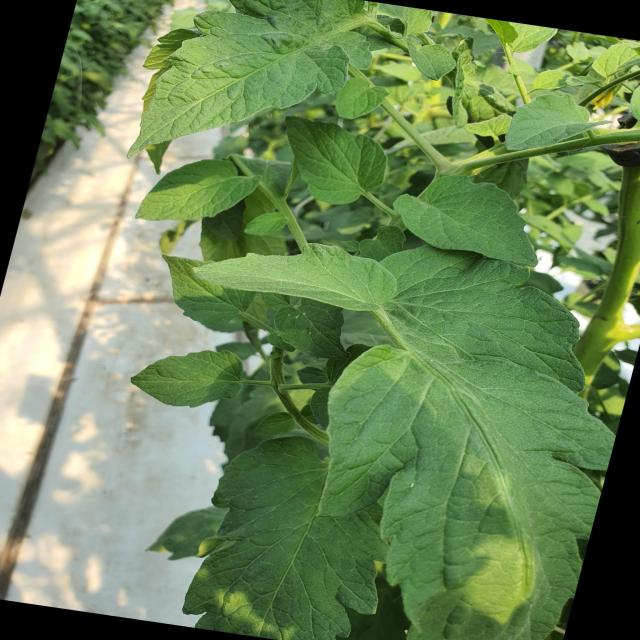Healthy Leaf: (326, 333, 620, 640), (124, 7, 377, 169), (168, 230, 413, 327), (398, 168, 583, 275), (270, 103, 382, 206), (141, 156, 269, 237), (496, 82, 611, 156), (140, 349, 247, 411)
